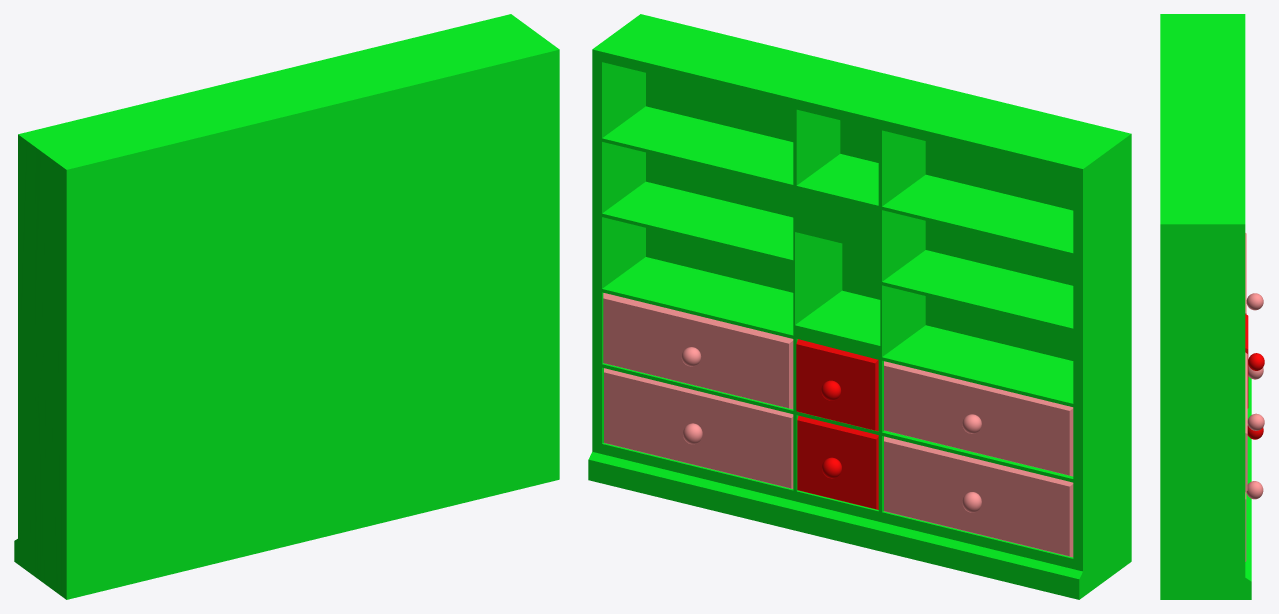
Rendered from Kast_finish.FBX.
3 renders of one model, left to right at view 1: azimuth 30°, elevation 25°; view 2: azimuth 150°, elevation 25°; view 3: azimuth 270°, elevation 25°, orthographic. The views are drawn at different scales.
Parts seen in each view (by area): view 1: Kast frame; view 2: Kast frame, Lade003, Lade004, Lade1, Lade002, Lade005, Lade006; view 3: Kast frame, Lade1, Lade006, Lade002, Lade004.
Boxes of the visible parts, x1,y1,x2,y2 form: Kast frame: (14, 14, 559, 599); Kast frame: (588, 14, 1131, 599); Lade003: (884, 436, 1073, 557); Lade004: (604, 368, 793, 488); Lade1: (603, 293, 793, 409); Lade002: (884, 361, 1073, 476); Lade005: (797, 415, 878, 509); Lade006: (796, 339, 878, 431); Kast frame: (1160, 14, 1251, 599); Lade1: (1245, 352, 1264, 491); Lade006: (1245, 314, 1264, 408); Lade002: (1245, 233, 1263, 314); Lade004: (1245, 481, 1263, 561).
Bounding box in the file's own units: 118 × 98.43 × 24.83.
